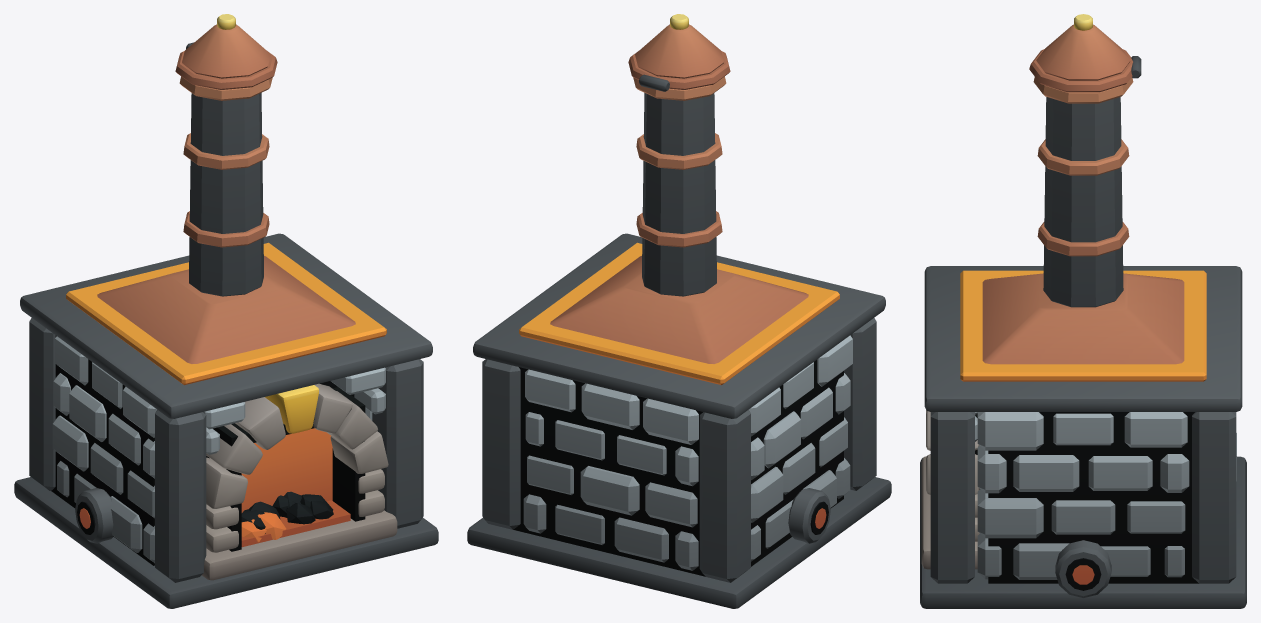
File: furnace_forge.glb
3 views of the same model, side by side, from view 1: azimuth 30°, elevation 25°; view 2: azimuth 150°, elevation 25°; view 3: azimuth 270°, elevation 25° (orthographic). The views are drawn at different scales.
Parts seen in each view (by area): view 1: Body, Glow, Cap; view 2: Body, Cap; view 3: Body, Cap.
Boxes of the visible parts, x1,y1,x2,y2 form: Body: [14, 76, 438, 608]; Glow: [79, 428, 350, 547]; Cap: [175, 14, 277, 89]; Body: [467, 76, 891, 608]; Cap: [628, 14, 730, 91]; Body: [920, 77, 1246, 608]; Cap: [1029, 14, 1141, 92].
Bounding box in the file's own units: 2.29 × 3.9 × 2.2.
2 materials, 2 textured.
